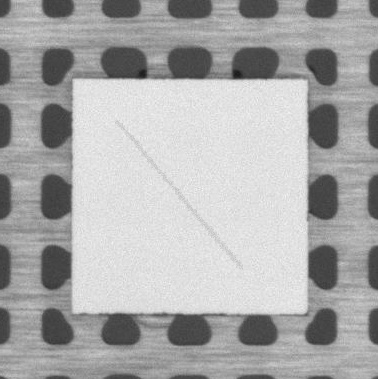DIE_CRACK: (117, 121, 241, 269)
